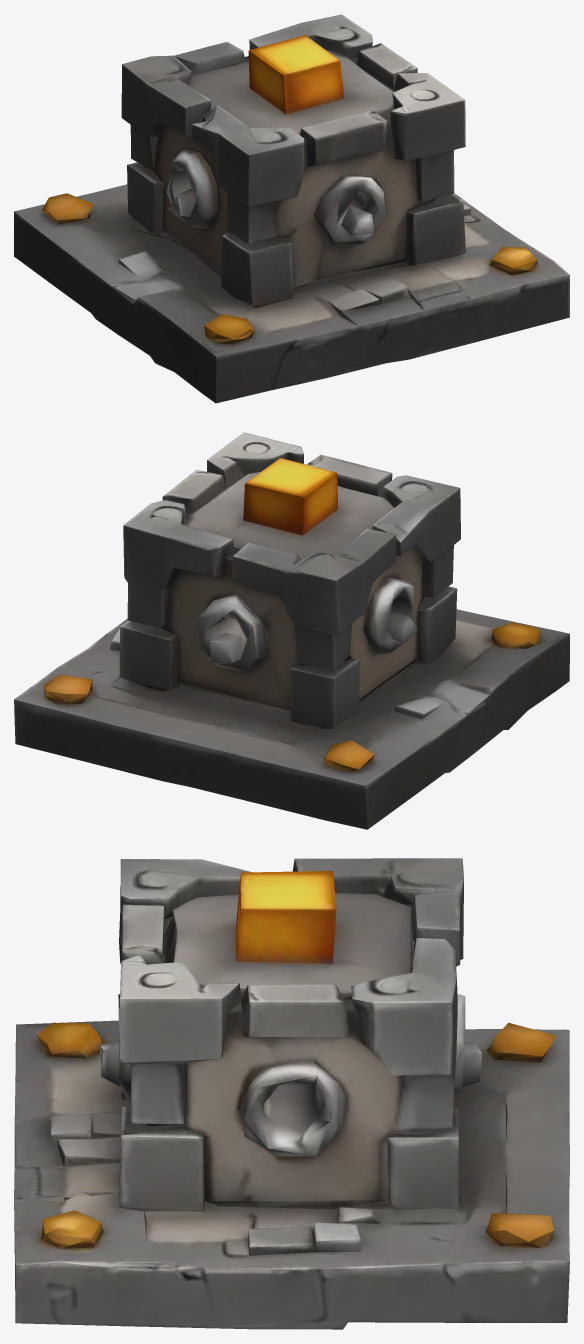
Rendered from movingBlock.glb.
3 views of the same model, one above another, from view 1: azimuth 30°, elevation 25°; view 2: azimuth 150°, elevation 25°; view 3: azimuth 270°, elevation 25° (orthographic). The views are drawn at different scales.
Parts seen in each view (by area): view 1: model; view 2: model; view 3: model.
Boxes of the visible parts, left/top/right/bottom form: model: left=14, top=14, right=569, bottom=403; model: left=14, top=432, right=569, bottom=829; model: left=14, top=858, right=569, bottom=1329.
Size of the model in its own units: 1.89 by 1.21 by 1.88.
1 material, 1 textured.
